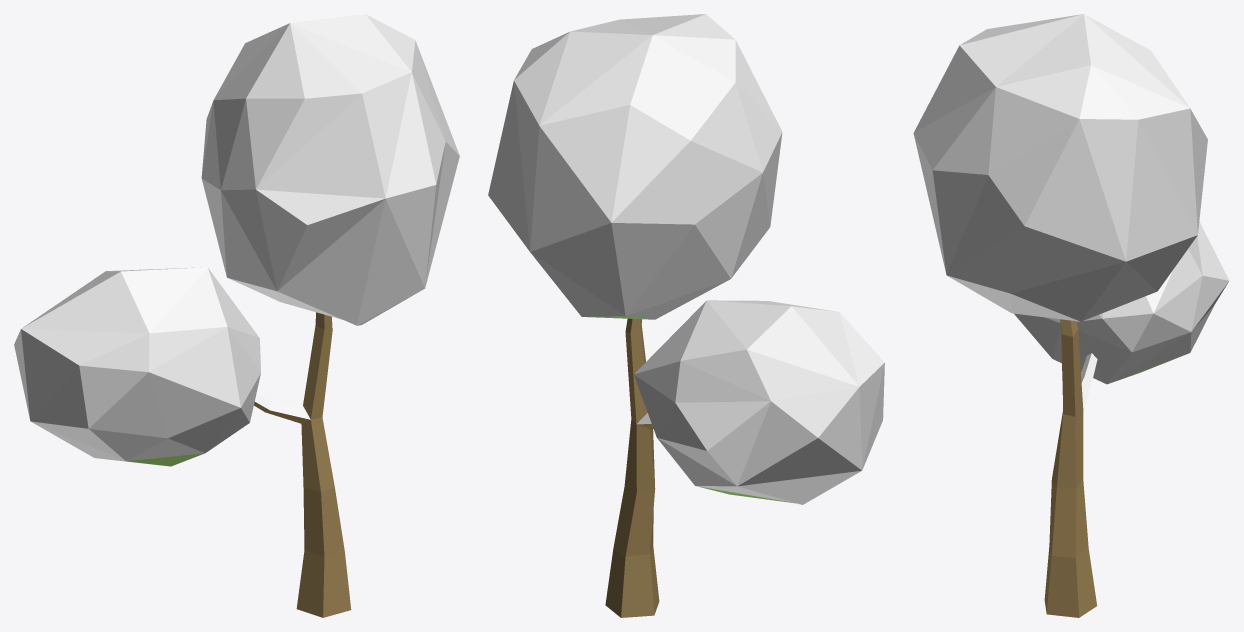
The model's file is Oak_Tree_m_Snow_BT_09.fbx.
The picture shows the model from 3 angles, left to right: view 1: azimuth 30°, elevation 25°; view 2: azimuth 150°, elevation 25°; view 3: azimuth 270°, elevation 25°; orthographic projection.
Parts seen in each view (by area): view 1: Oak_Tree_m_Snow_BT_09; view 2: Oak_Tree_m_Snow_BT_09; view 3: Oak_Tree_m_Snow_BT_09.
Boxes of the visible parts, box(x1,y1,x2,y2) form: Oak_Tree_m_Snow_BT_09: box(14, 14, 459, 617); Oak_Tree_m_Snow_BT_09: box(488, 14, 884, 617); Oak_Tree_m_Snow_BT_09: box(913, 14, 1229, 617).
Size of the model in its own units: 518 by 757 by 374.
